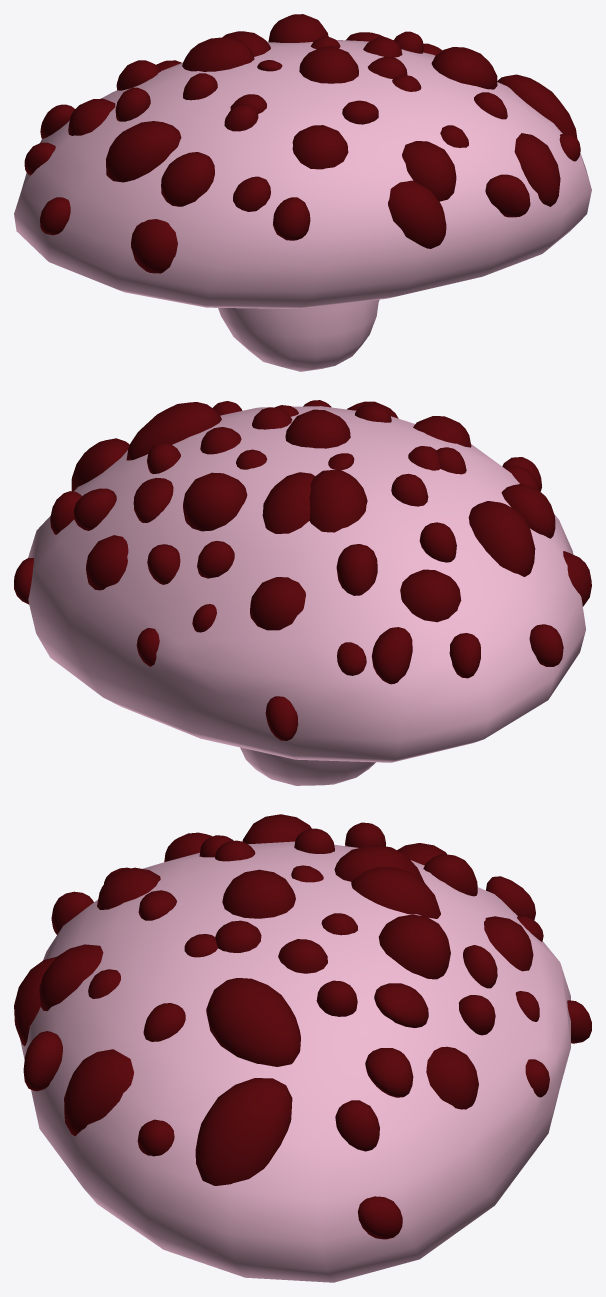
Rendered from BloodMushroom.fbx.
3 renders of one model, top to bottom at view 1: azimuth 30°, elevation 25°; view 2: azimuth 150°, elevation 25°; view 3: azimuth 270°, elevation 25°, orthographic. The views are drawn at different scales.
Visible parts, largest first — view 1: Shroom, BloodOrb; view 2: Shroom, BloodOrb; view 3: Shroom, BloodOrb.
Part boxes in pixels (x1,y1,x2,y2): Shroom: (14,40,591,371); BloodOrb: (24,14,580,273); Shroom: (28,406,585,785); BloodOrb: (14,400,591,740); Shroom: (20,841,570,1282); BloodOrb: (14,814,591,1239).
Size of the model in its own units: 2 by 1.22 by 1.61.
